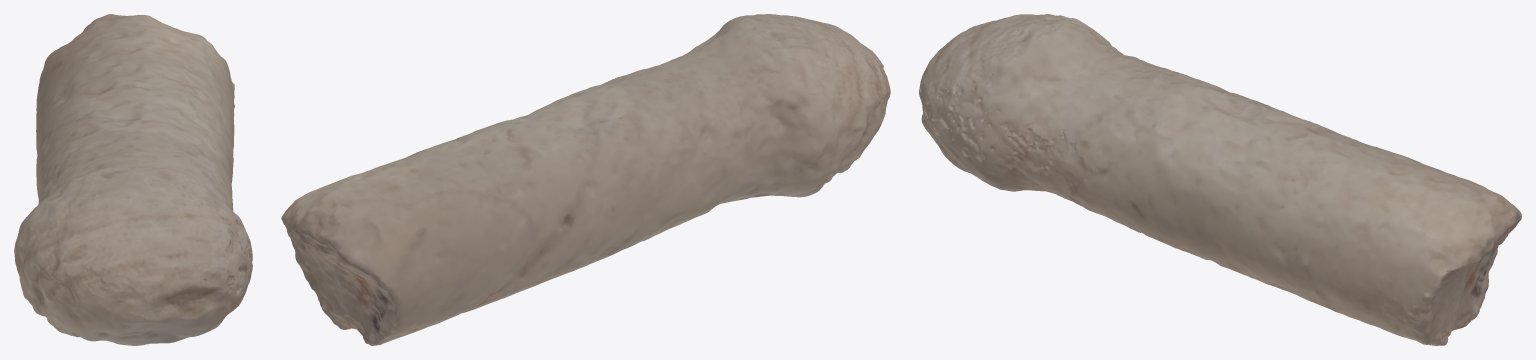
3 renders of one model, left to right at view 1: azimuth 30°, elevation 25°; view 2: azimuth 150°, elevation 25°; view 3: azimuth 270°, elevation 25°, orthographic. The views are drawn at different scales.
Visible parts, largest first — view 1: Object_2; view 2: Object_2; view 3: Object_2.
Boxes of the visible parts, <box> form: Object_2: <box>14,14,252,345</box>; Object_2: <box>281,14,890,345</box>; Object_2: <box>919,14,1521,345</box>.
Size of the model in its own units: 2.18 by 1.13 by 2.96.
